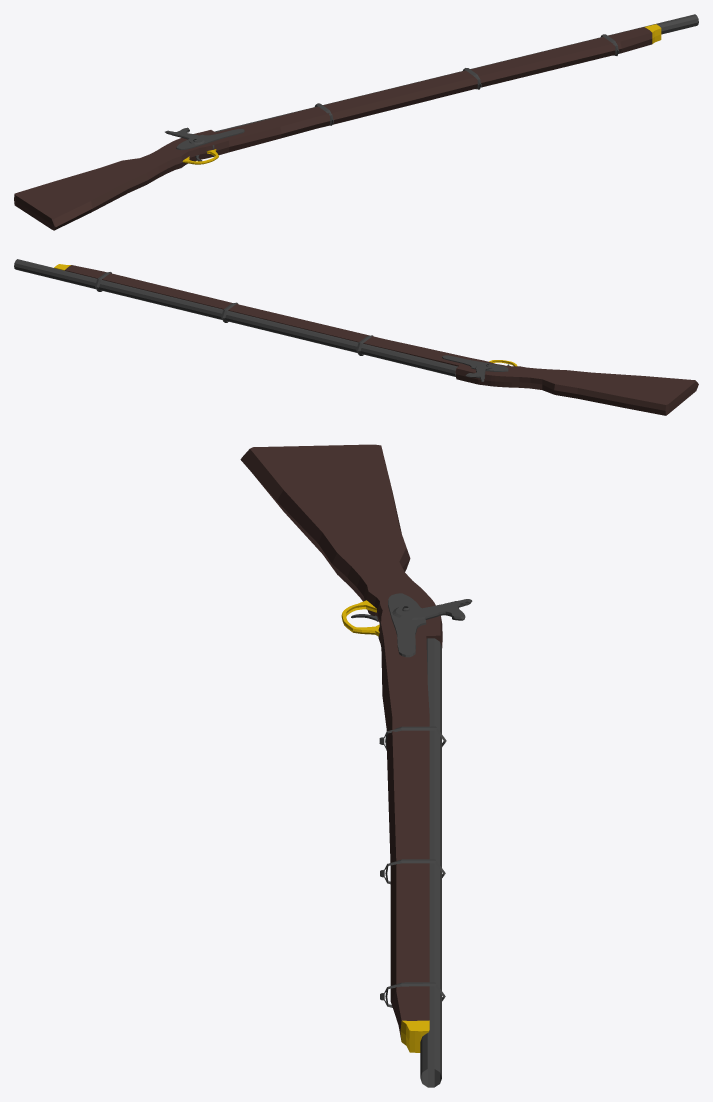
The model's file is Enfield.fbx.
3 views of the same model, one above another, from view 1: azimuth 30°, elevation 25°; view 2: azimuth 150°, elevation 25°; view 3: azimuth 270°, elevation 25° (orthographic). The views are drawn at different scales.
Parts seen in each view (by area): view 1: Plane.001; view 2: Plane.001; view 3: Plane.001, Plane.002.
Part boxes in pixels (box(x1,y1,x2,y2)): Plane.001: box(14, 14, 698, 230); Plane.001: box(14, 259, 698, 415); Plane.001: box(240, 444, 446, 1087); Plane.002: box(392, 599, 472, 620).
Size of the model in its own units: 464 by 10.26 by 73.1.
